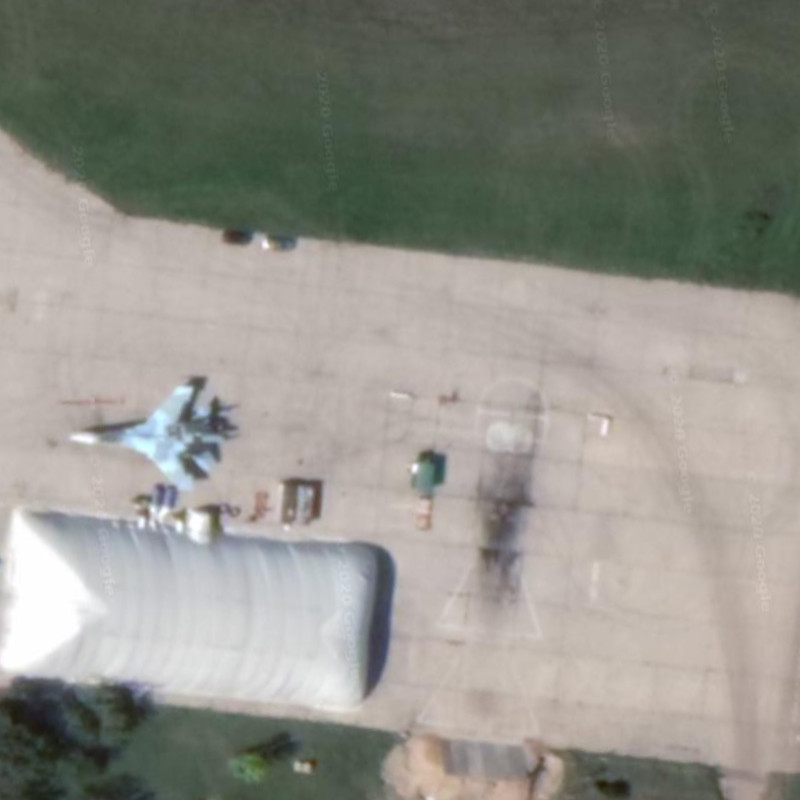A1: (52, 370, 259, 496)
